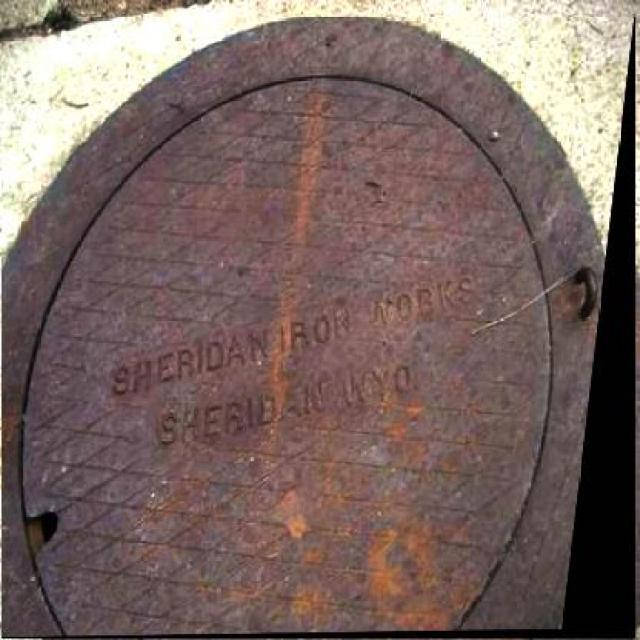Manhole: (2, 16, 636, 638)
